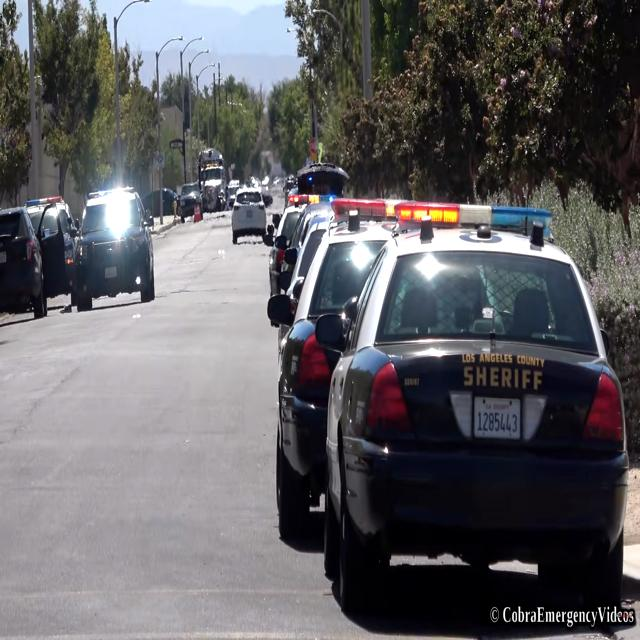emergency-vehicles: (326, 176, 629, 633), (263, 174, 458, 546)
